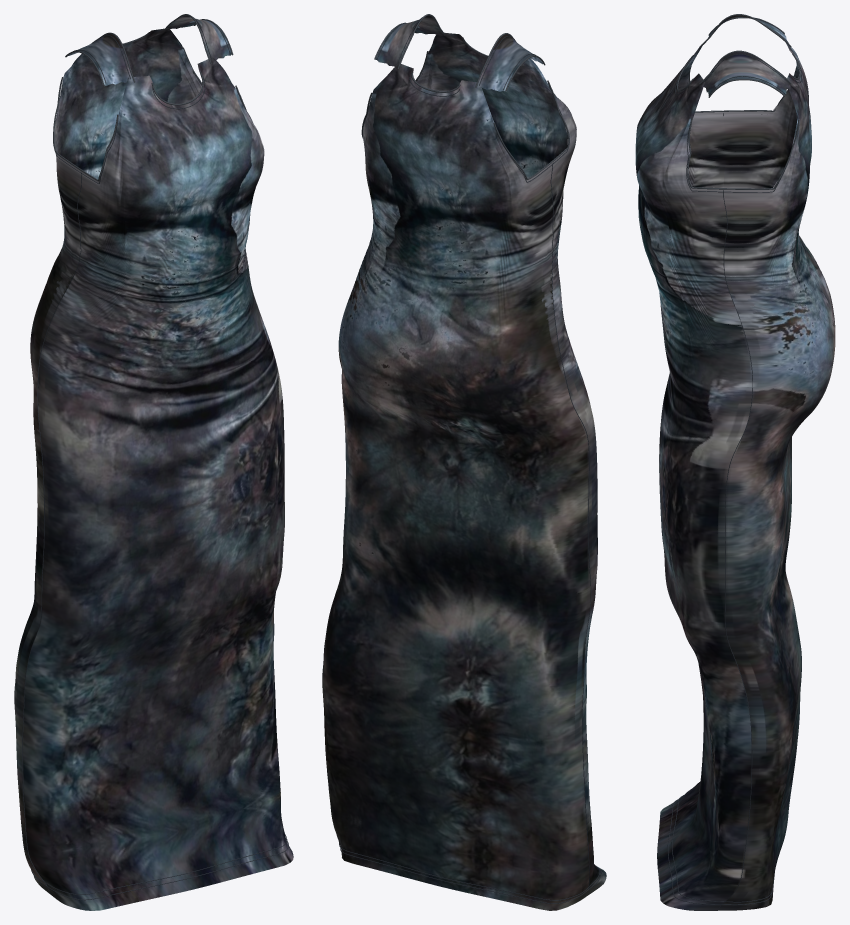
File: vestido-largo-estampado_XXL.glb
The picture shows the model from 3 angles, left to right: view 1: azimuth 30°, elevation 25°; view 2: azimuth 150°, elevation 25°; view 3: azimuth 270°, elevation 25°; orthographic projection. The views are drawn at different scales.
Parts seen in each view (by area): view 1: vestido-frente, vestido-espalda, tirante (×2), pespunte; view 2: vestido-espalda, vestido-frente, tirante (×2), pespunte; view 3: vestido-frente, vestido-espalda, tirante, pespunte, ribete.
Boxes of the visible parts, bbox=[...] form: vestido-frente: bbox=[23, 57, 293, 910]; vestido-espalda: bbox=[14, 28, 201, 894]; tirante (×2): bbox=[68, 15, 231, 85]; pespunte: bbox=[22, 171, 81, 890]; vestido-espalda: bbox=[322, 64, 590, 910]; vestido-frente: bbox=[417, 32, 606, 893]; tirante (×2): bbox=[374, 15, 543, 91]; pespunte: bbox=[550, 162, 591, 891]; vestido-frente: bbox=[635, 44, 752, 910]; vestido-espalda: bbox=[717, 43, 835, 910]; tirante: bbox=[703, 50, 790, 95]; pespunte: bbox=[719, 190, 752, 907]; ribete: bbox=[687, 117, 799, 189].
Bounding box in the file's own units: 0.4551 × 1.45 × 0.3183.
3 materials, 1 textured.
